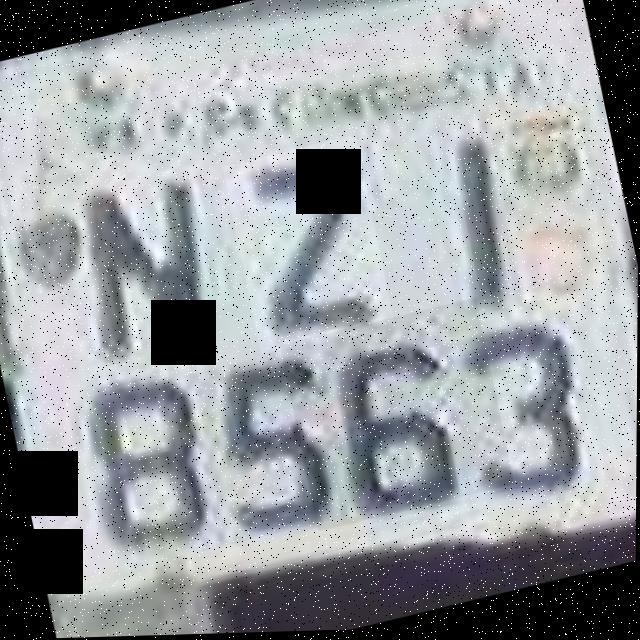3: (412, 273, 638, 518)
5: (167, 334, 401, 553)
6: (278, 298, 516, 534)
8: (41, 344, 275, 597)
N: (43, 163, 243, 396)
Z: (221, 135, 396, 356)
